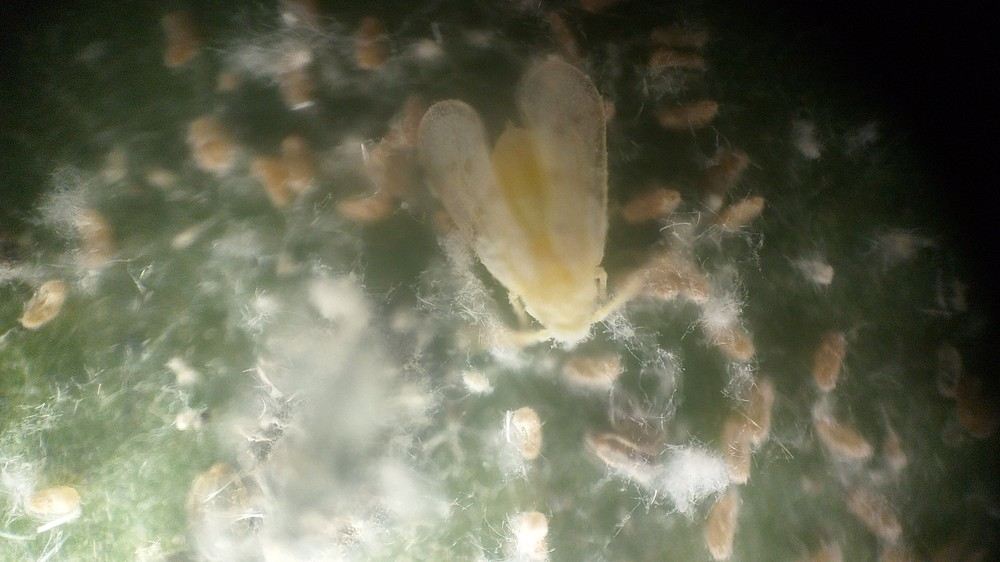Mosca Blanca: (394, 58, 675, 366)
